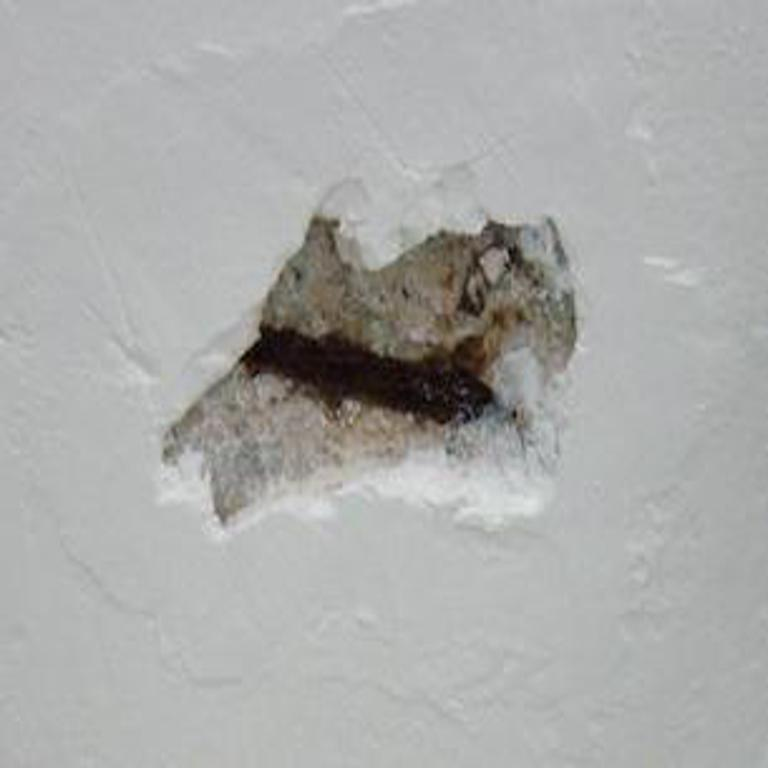damage: (162, 215, 578, 522)
